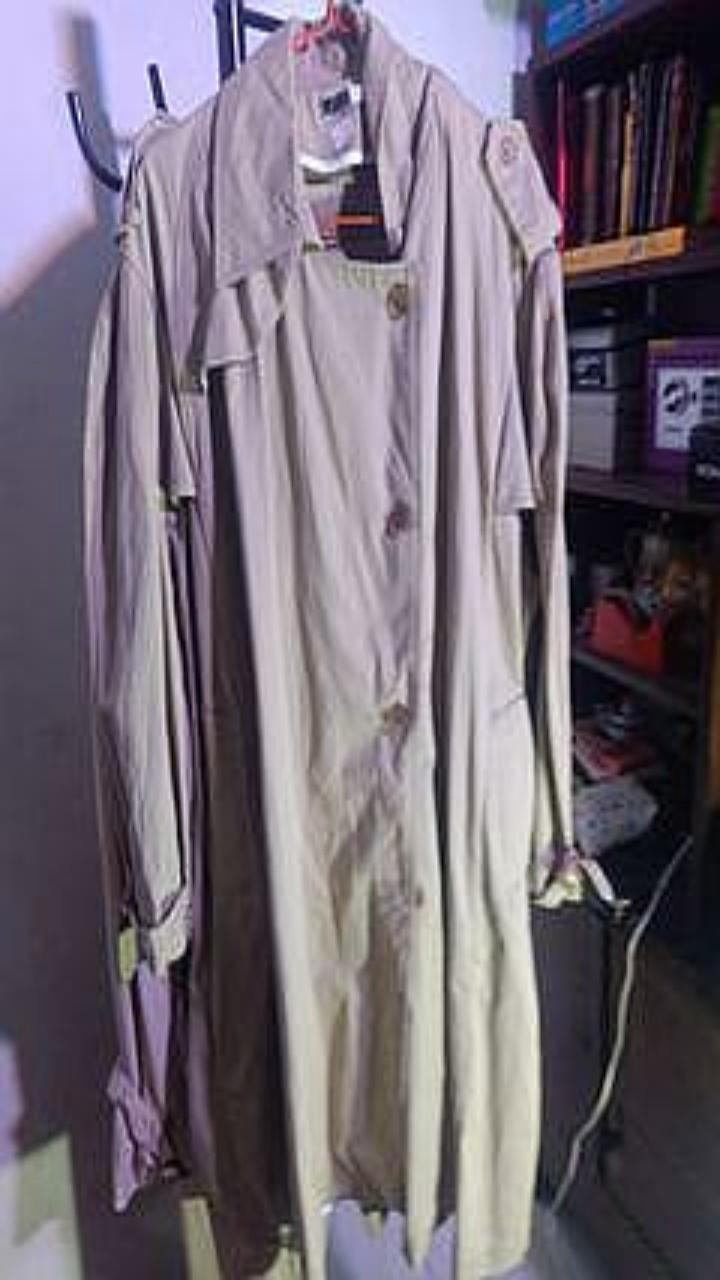Coat: (86, 16, 576, 1279)
